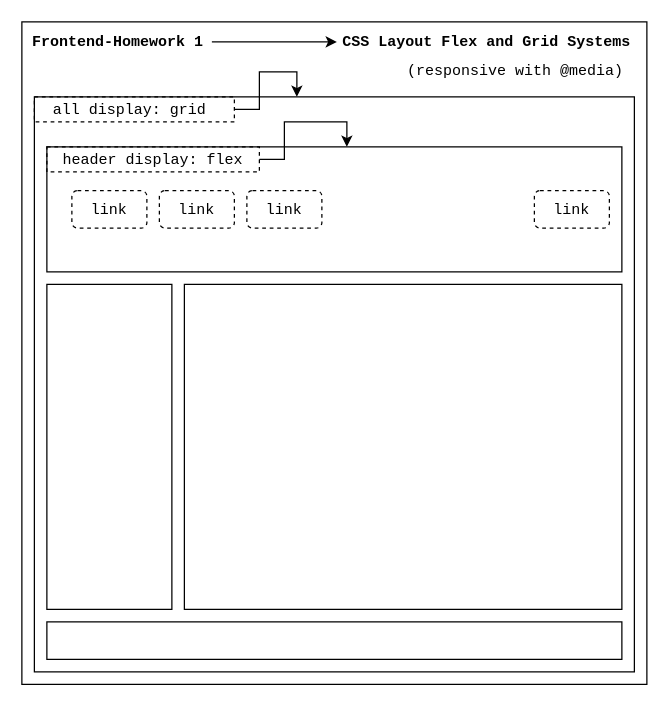
Some shapes in this 669 by 706 pixel diagram are drawn without their labels. The box of each missing label's shape, as (x1, y1, x2, y2) in pixels:
footer: (46, 621, 622, 659)
main: (183, 283, 622, 609)
side: (46, 283, 172, 609)
